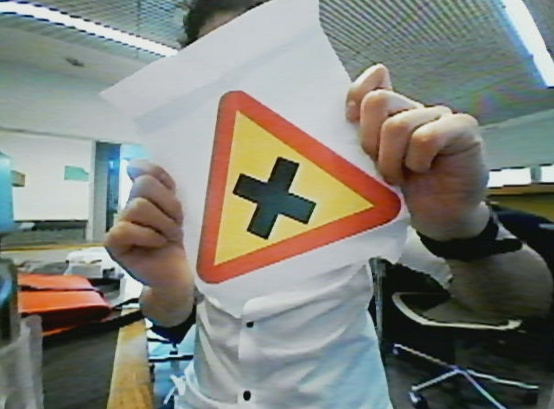junction: (178, 90, 406, 276)
